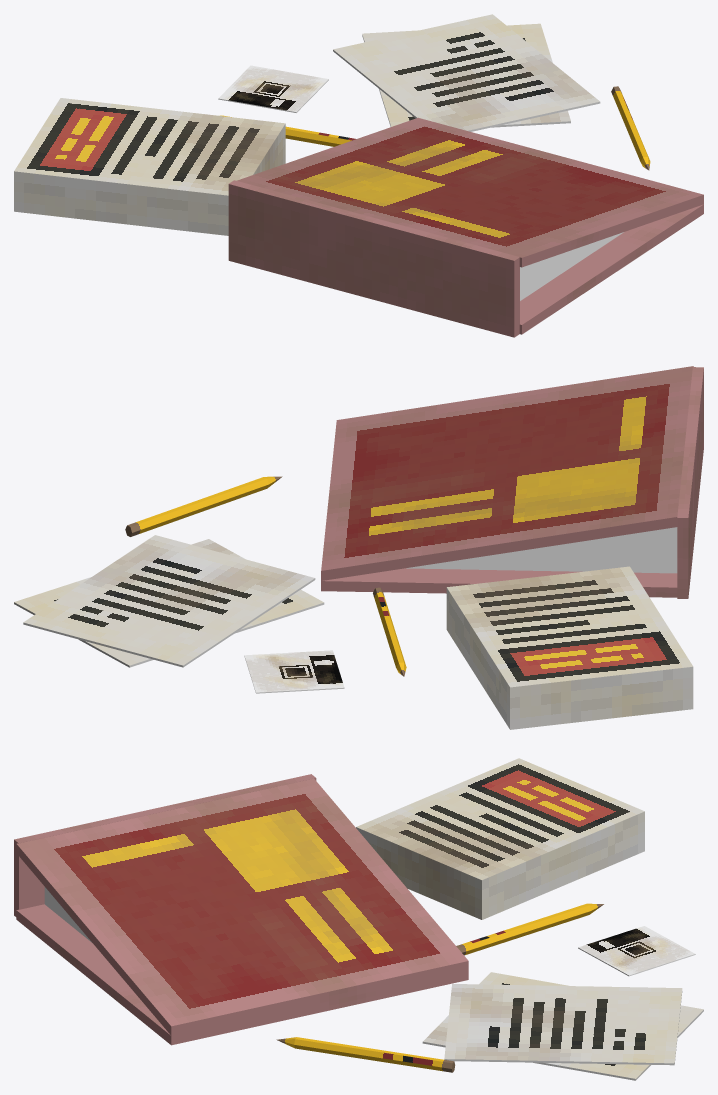
File: Desk Clutter + Texture.gltf
The picture shows the model from 3 angles, top to bottom: view 1: azimuth 30°, elevation 25°; view 2: azimuth 150°, elevation 25°; view 3: azimuth 270°, elevation 25°; orthographic projection. The views are drawn at different scales.
Parts seen in each view (by area): view 1: cuboid (×4), PaperS, Paper (×2), Floppi disc, cylinder (×2); view 2: cuboid (×4), PaperS, Paper (×2), Floppi disc, cylinder (×2); view 3: cuboid (×3), PaperS, Paper (×2), cylinder (×2), Floppi disc.
Part boxes in pixels (bbox=[...]): cuboid (×4): bbox=[228, 117, 703, 337]; PaperS: bbox=[14, 98, 285, 235]; Paper (×2): bbox=[333, 14, 600, 131]; Floppi disc: bbox=[218, 65, 328, 112]; cylinder (×2): bbox=[222, 86, 649, 161]; cuboid (×4): bbox=[321, 366, 703, 598]; PaperS: bbox=[446, 566, 693, 729]; Paper (×2): bbox=[14, 535, 324, 667]; Floppi disc: bbox=[244, 650, 344, 693]; cylinder (×2): bbox=[125, 477, 406, 667]; cuboid (×3): bbox=[14, 774, 468, 1045]; PaperS: bbox=[356, 758, 644, 919]; Paper (×2): bbox=[422, 972, 703, 1080]; cylinder (×2): bbox=[294, 904, 590, 1072]; Floppi disc: bbox=[578, 926, 695, 976].
Size of the model in its own units: 2 by 0.2531 by 2.06.
8 materials, 7 textured.
